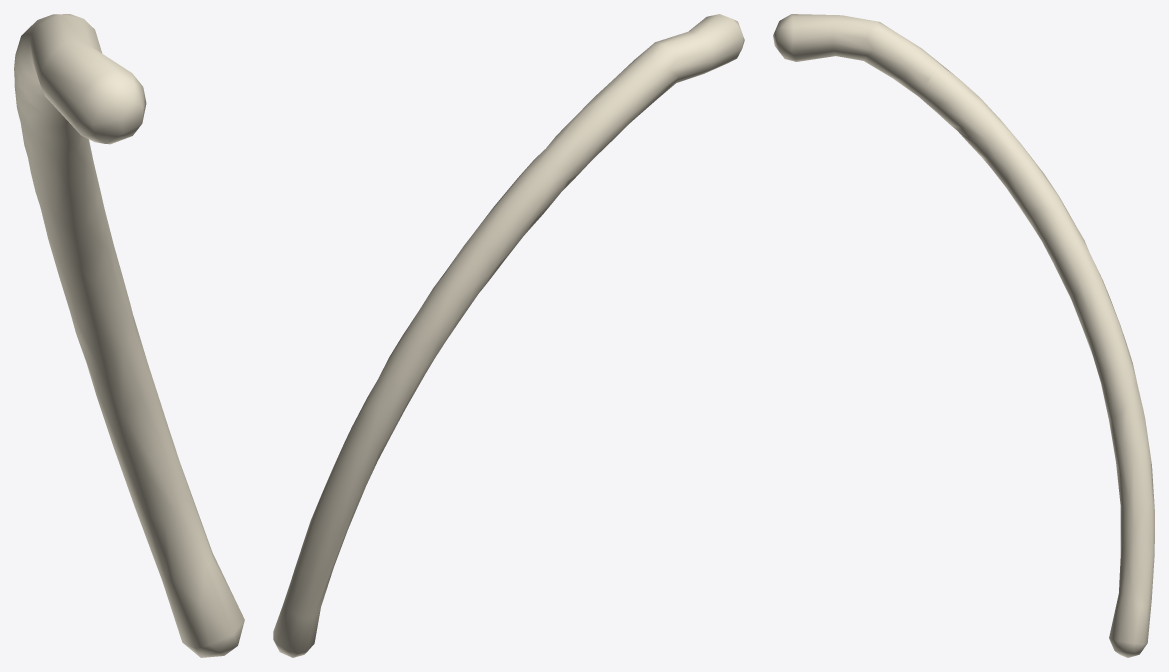
File: rib_13_r.glb
3 views of the same model, side by side, from view 1: azimuth 30°, elevation 25°; view 2: azimuth 150°, elevation 25°; view 3: azimuth 270°, elevation 25° (orthographic). The views are drawn at different scales.
Parts seen in each view (by area): view 1: geometry_0; view 2: geometry_0; view 3: geometry_0.
Part boxes in pixels (x1,y1,x2,y2): geometry_0: (14,14,244,657); geometry_0: (273,14,744,657); geometry_0: (773,14,1154,657).
Bounding box in the file's own units: 0.3103 × 0.5886 × 0.3862.
